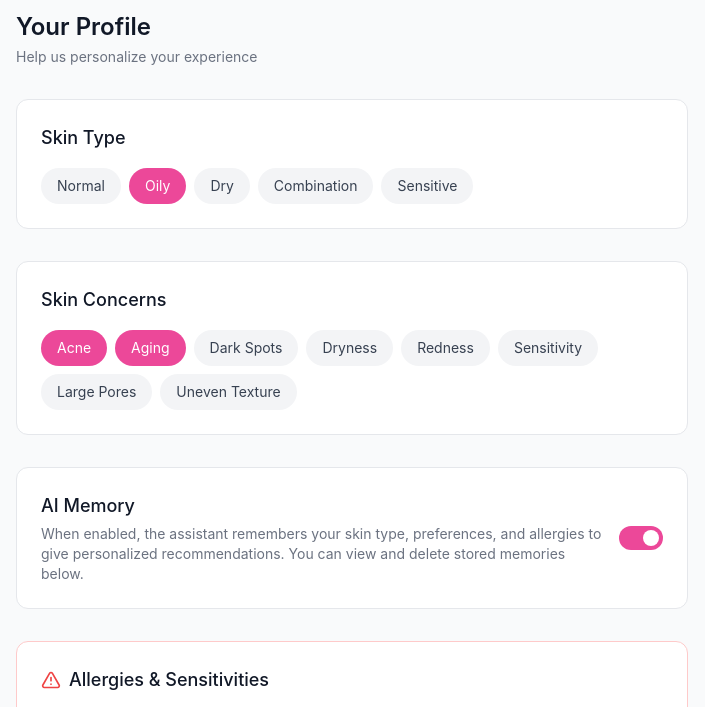
it: UserProfile › shows Save Changes button when skin type is changed
This screenshot has width=705, height=707.
Expected: the text "Save Changes" is not shown
Click the button "dry": (222, 186) [194,168,250,204]
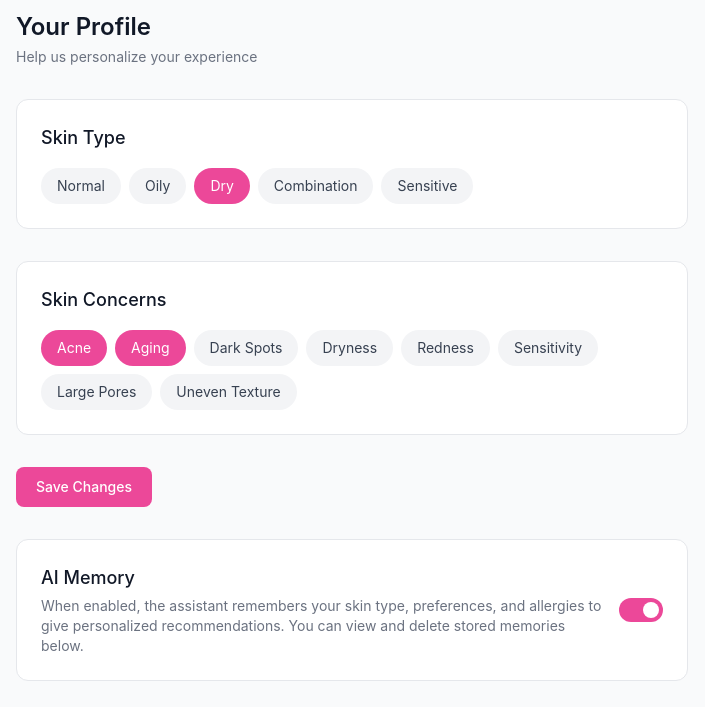
Result: the button "Save Changes" is shown at [16,467,152,507]
